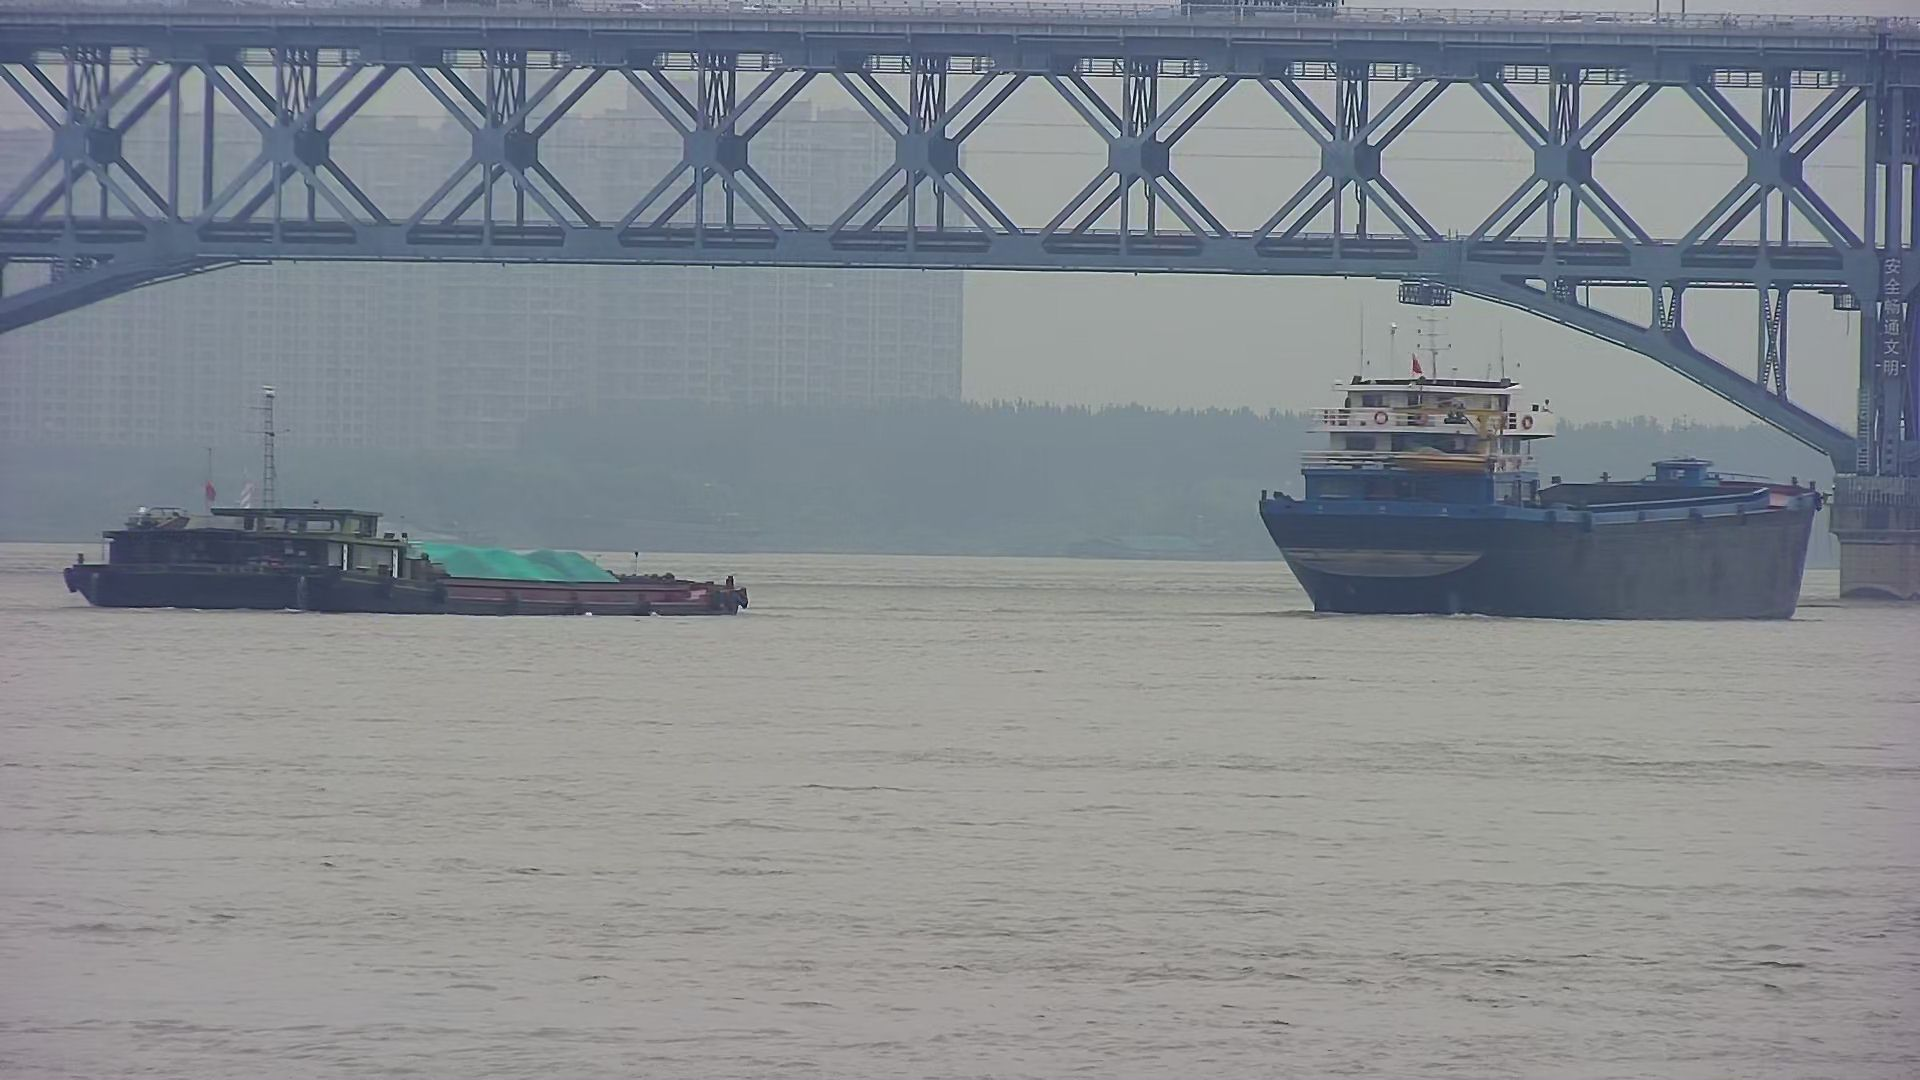bridge: (8, 3, 1920, 382)
ship: (46, 377, 752, 628), (1257, 316, 1826, 621)
